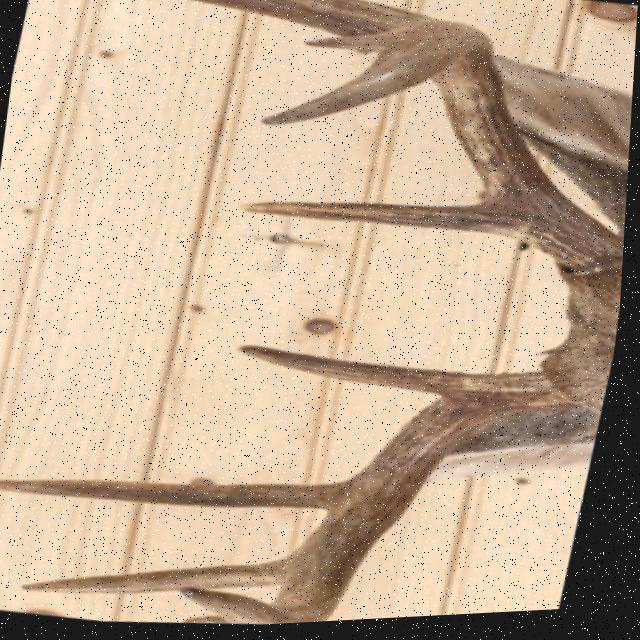L-F: (258, 21, 627, 279)
L-G1: (239, 195, 517, 244)
R-F: (185, 373, 576, 627)
R-G1: (236, 345, 511, 402)
R-G2: (0, 477, 358, 516)
